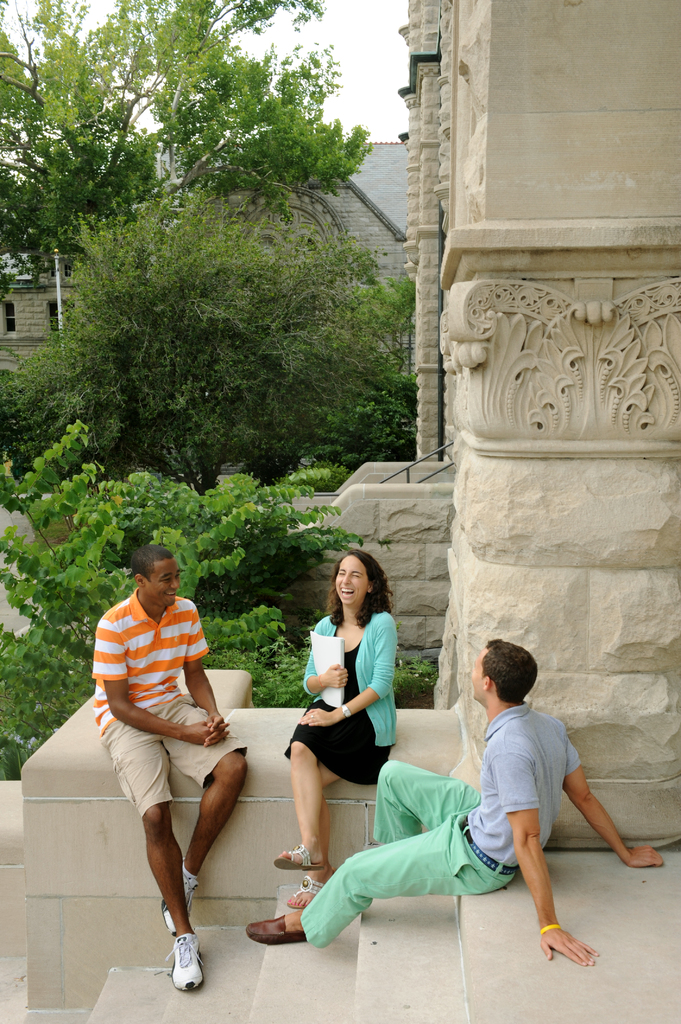Tree: (0, 428, 442, 765), (0, 197, 421, 474), (81, 0, 390, 186), (0, 0, 174, 270)
